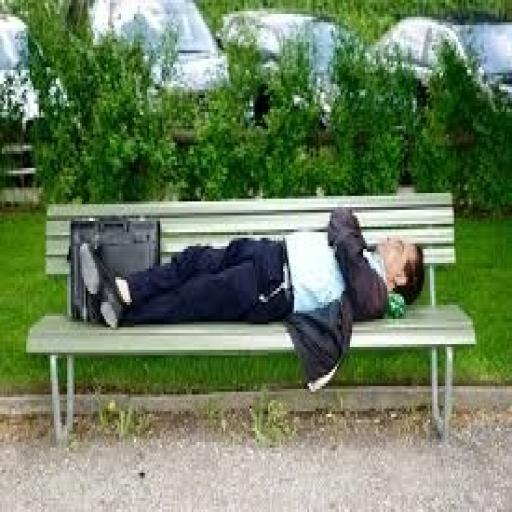sleeping: (75, 201, 428, 392)
